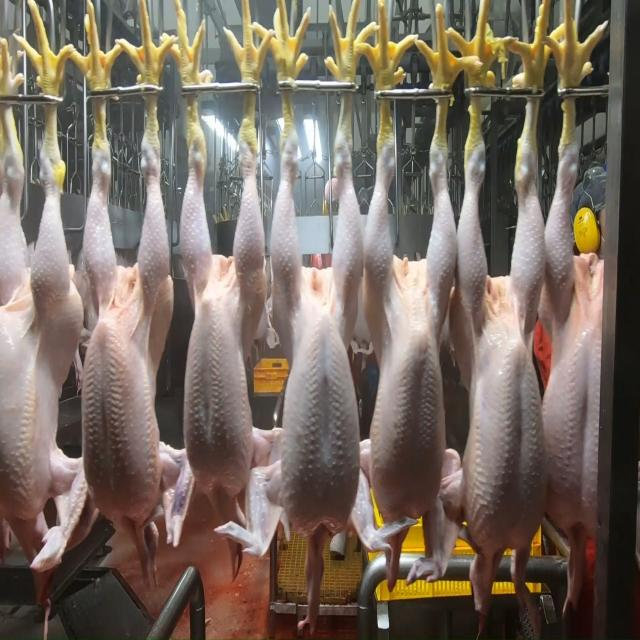chicken: (270, 136, 366, 530), (369, 122, 458, 532), (463, 135, 547, 559), (76, 139, 169, 517), (175, 132, 263, 509), (1, 147, 75, 522), (544, 134, 609, 533)
